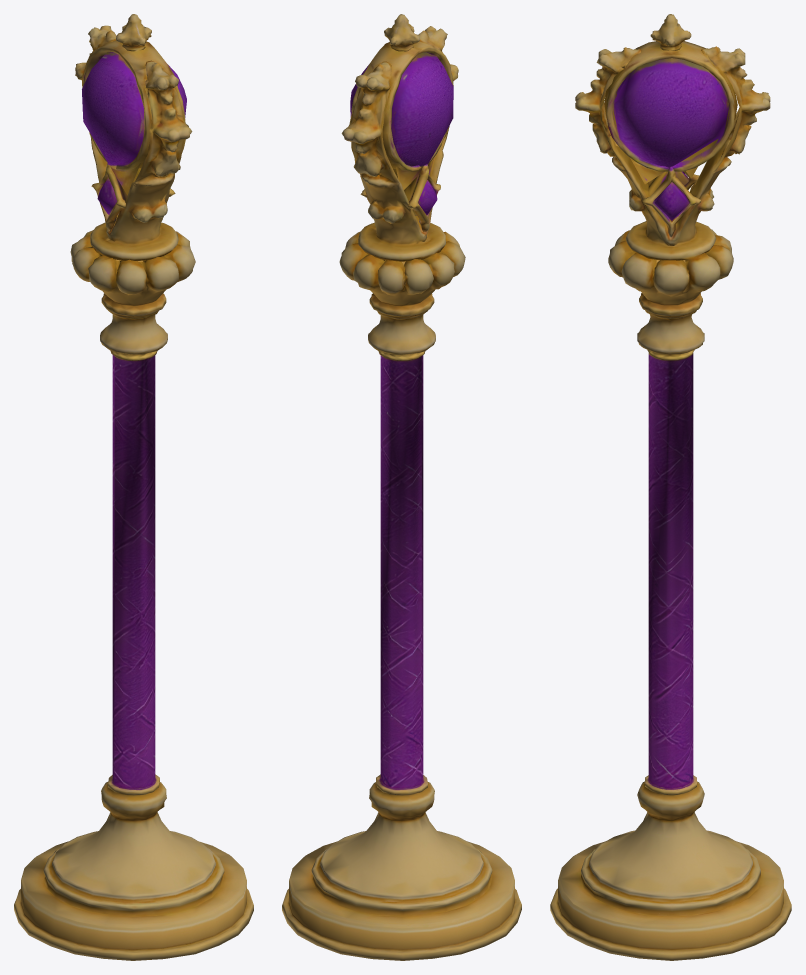
File: r33-scepter.glb
3 renders of one model, left to right at view 1: azimuth 30°, elevation 25°; view 2: azimuth 150°, elevation 25°; view 3: azimuth 270°, elevation 25°, orthographic.
Parts seen in each view (by area): view 1: tripo_node_bb29c602-9543-41eb-9668-35f2294877b4; view 2: tripo_node_bb29c602-9543-41eb-9668-35f2294877b4; view 3: tripo_node_bb29c602-9543-41eb-9668-35f2294877b4.
Boxes of the visible parts, x1=… form: tripo_node_bb29c602-9543-41eb-9668-35f2294877b4: x1=14, y1=14, x2=253, y2=960; tripo_node_bb29c602-9543-41eb-9668-35f2294877b4: x1=282, y1=14, x2=521, y2=960; tripo_node_bb29c602-9543-41eb-9668-35f2294877b4: x1=550, y1=14, x2=791, y2=960.
Size of the model in its own units: 0.2441 by 0.998 by 0.2441.
Materials: 1 (1 with a texture image).
